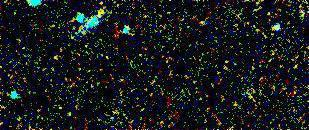star: (83, 5, 113, 35)
